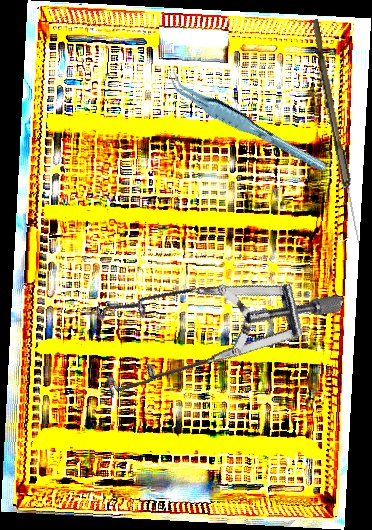Speculum: (66, 212, 346, 467)
Surgical Spoon: (306, 18, 366, 245)
Tissue Forceps: (163, 57, 329, 190)
